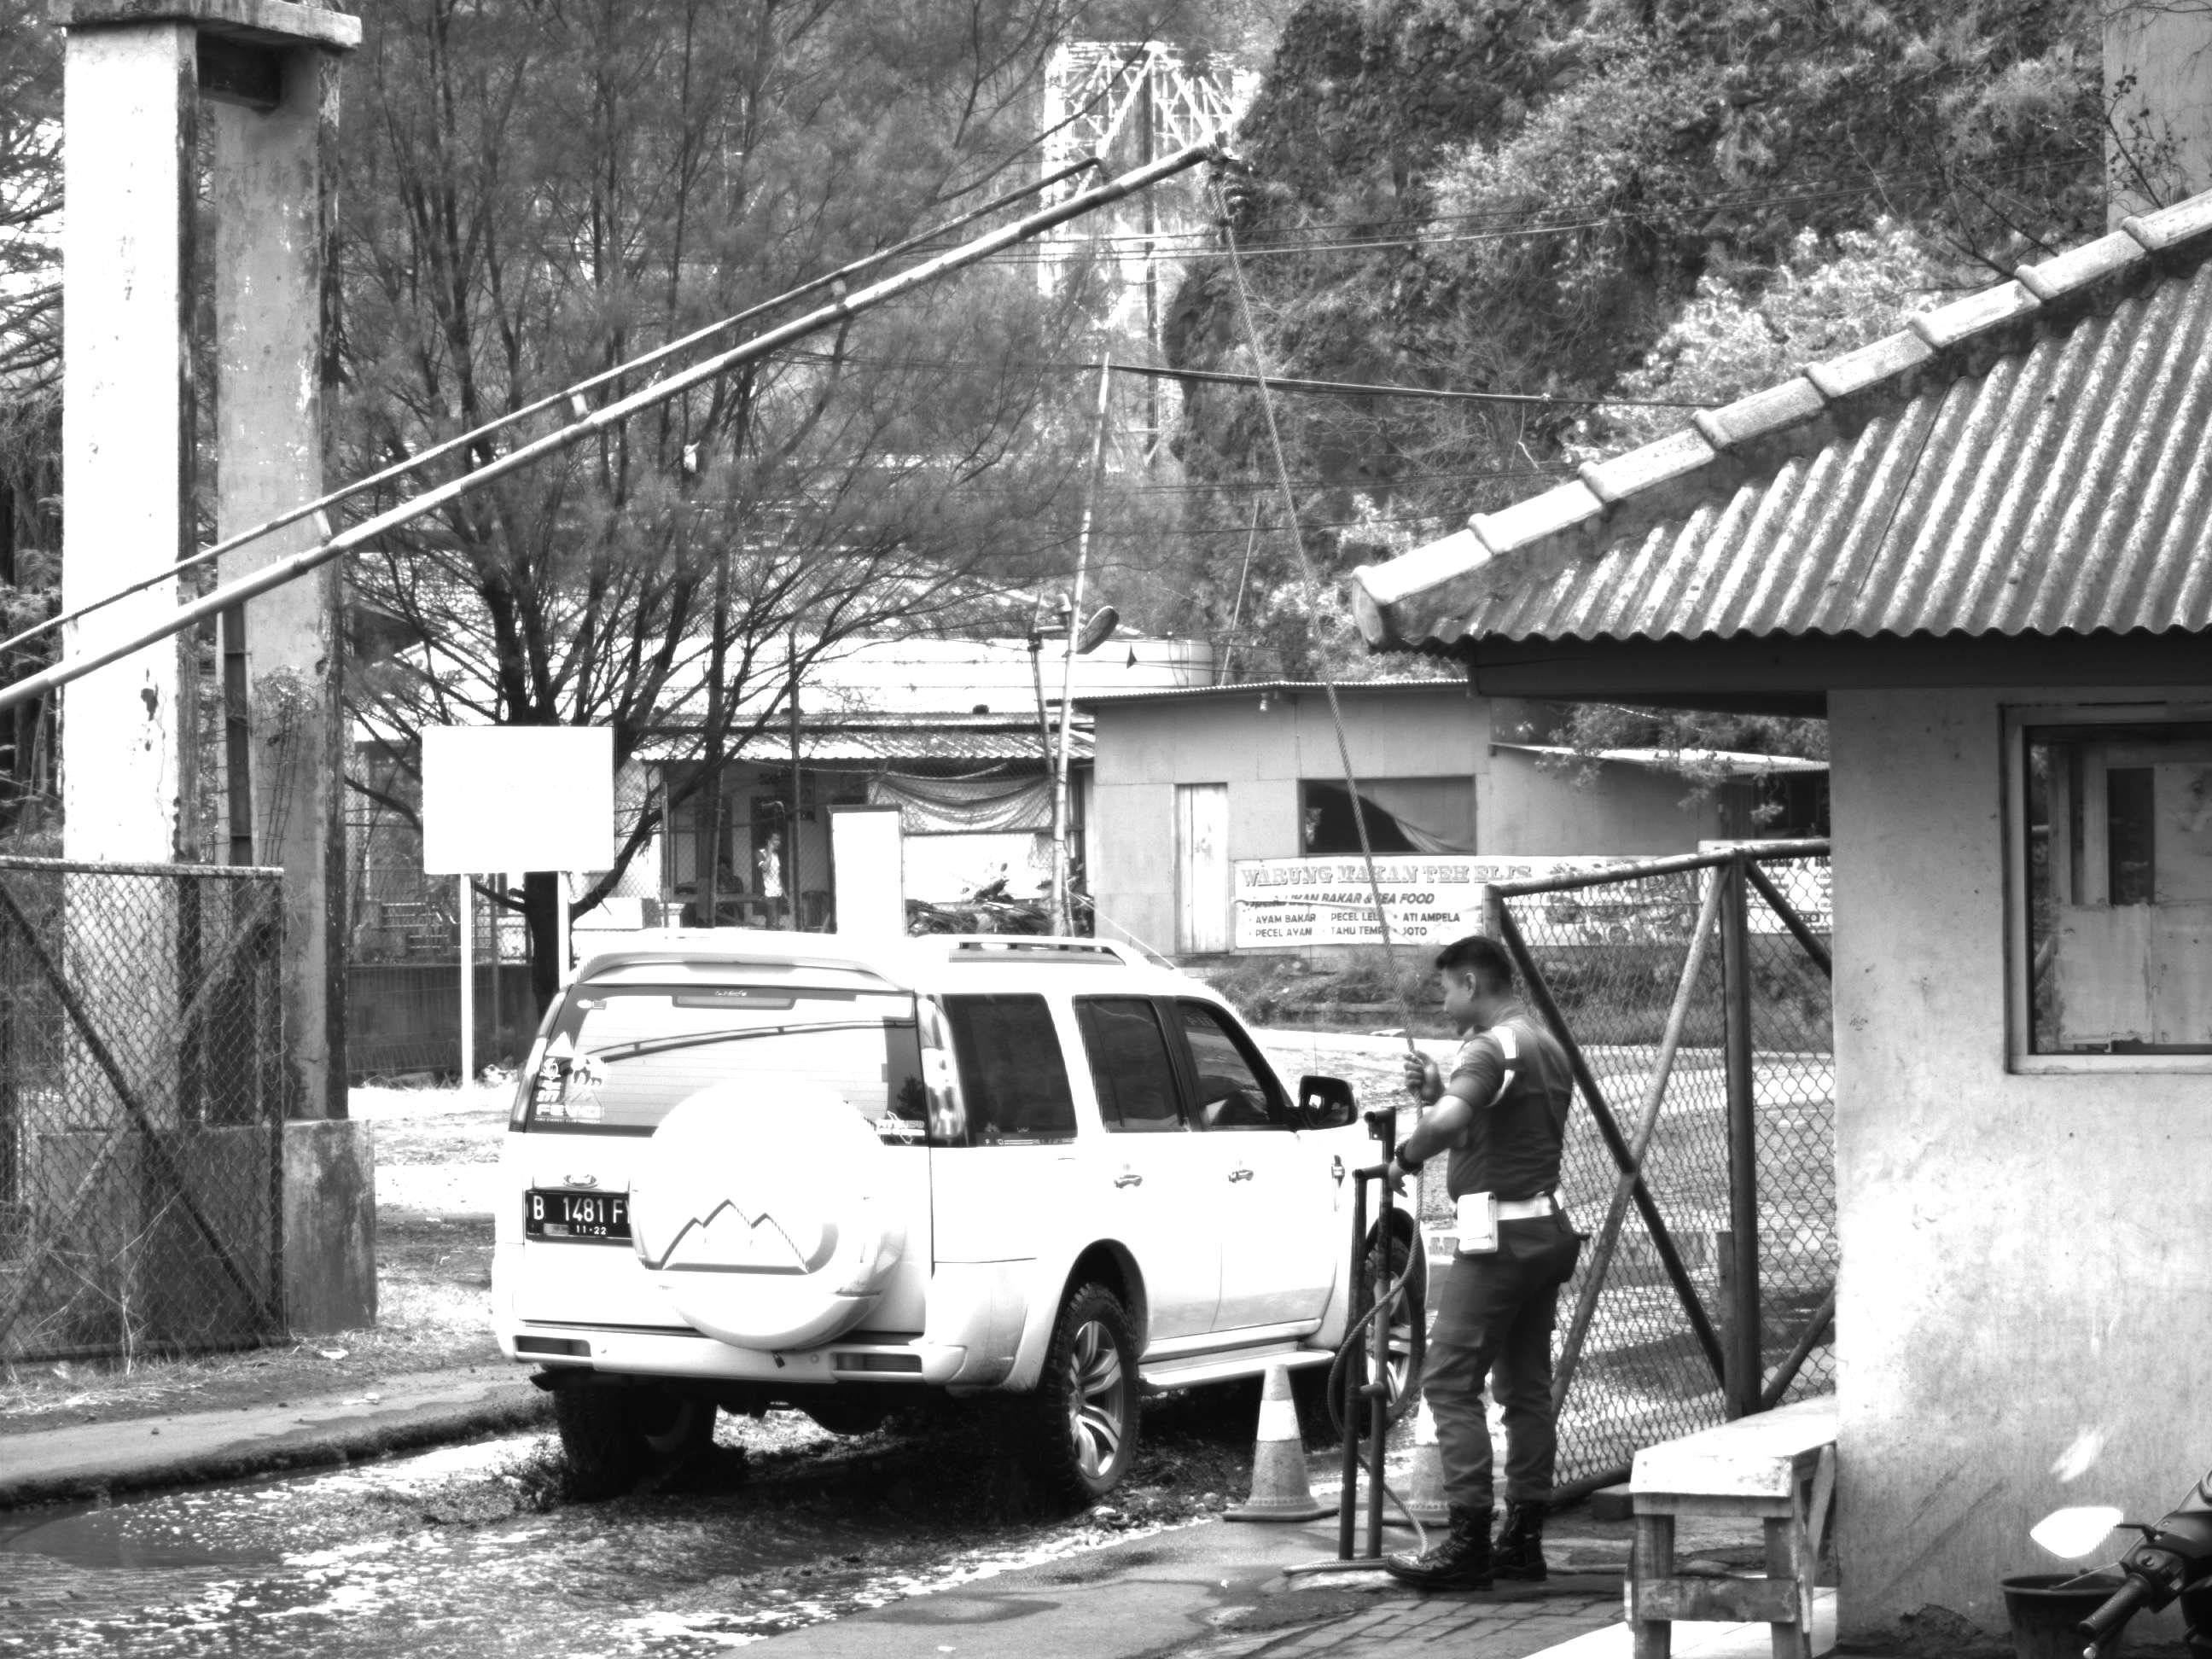day_small_rear: (502, 921, 1152, 1524)
plate: (520, 1186, 642, 1243)
